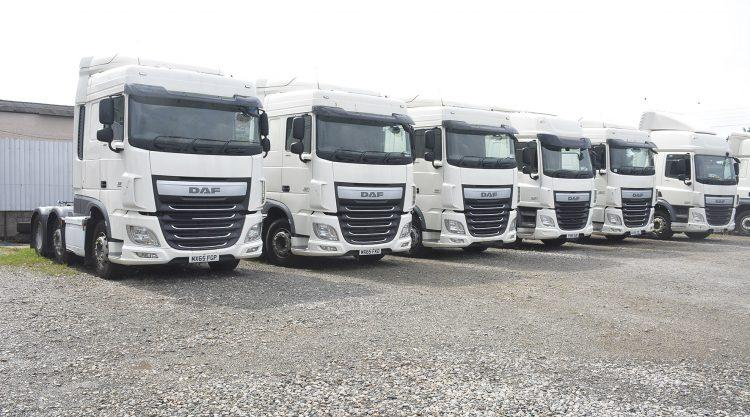truck: (17, 52, 270, 280), (253, 76, 413, 266), (407, 97, 517, 258), (510, 111, 597, 248), (652, 128, 740, 240), (583, 126, 656, 245)
